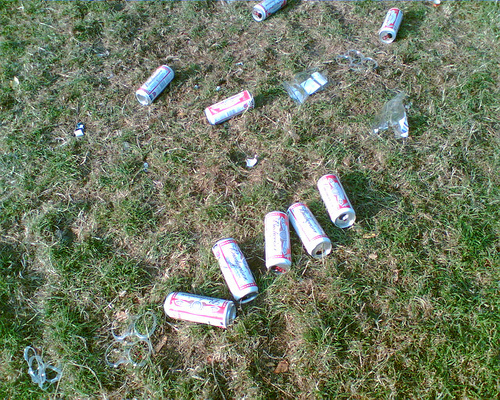litter: (210, 237, 255, 302), (286, 204, 333, 261), (107, 313, 154, 368), (164, 293, 235, 328), (318, 172, 355, 229), (370, 93, 412, 139), (262, 211, 292, 275), (282, 68, 328, 108), (203, 89, 256, 122), (133, 65, 174, 104), (24, 344, 60, 388), (379, 8, 404, 43), (333, 50, 375, 70), (251, 0, 287, 20), (73, 123, 85, 137), (246, 158, 258, 170), (432, 0, 443, 7)
